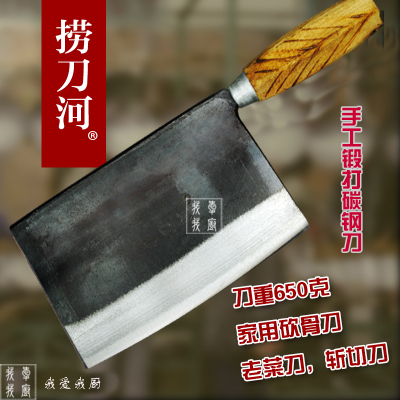knief: (56, 11, 379, 369)
